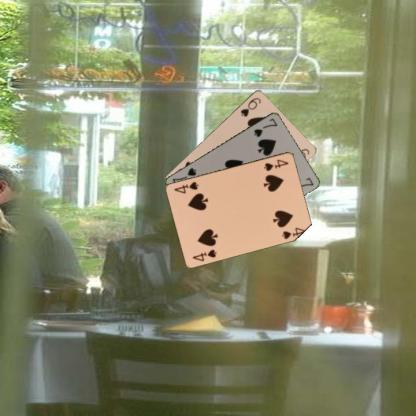4s: (190, 246, 218, 262), (262, 157, 290, 172)
6s: (238, 95, 262, 118)
7s: (251, 116, 278, 138)
